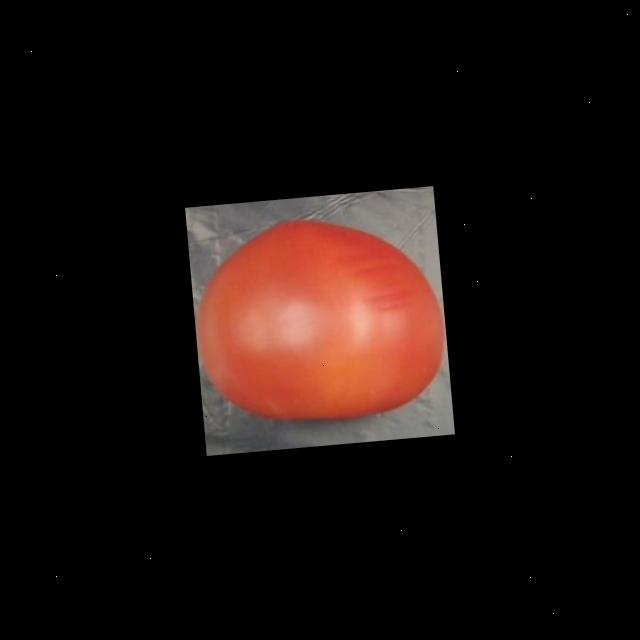tomato: (187, 202, 453, 435)
